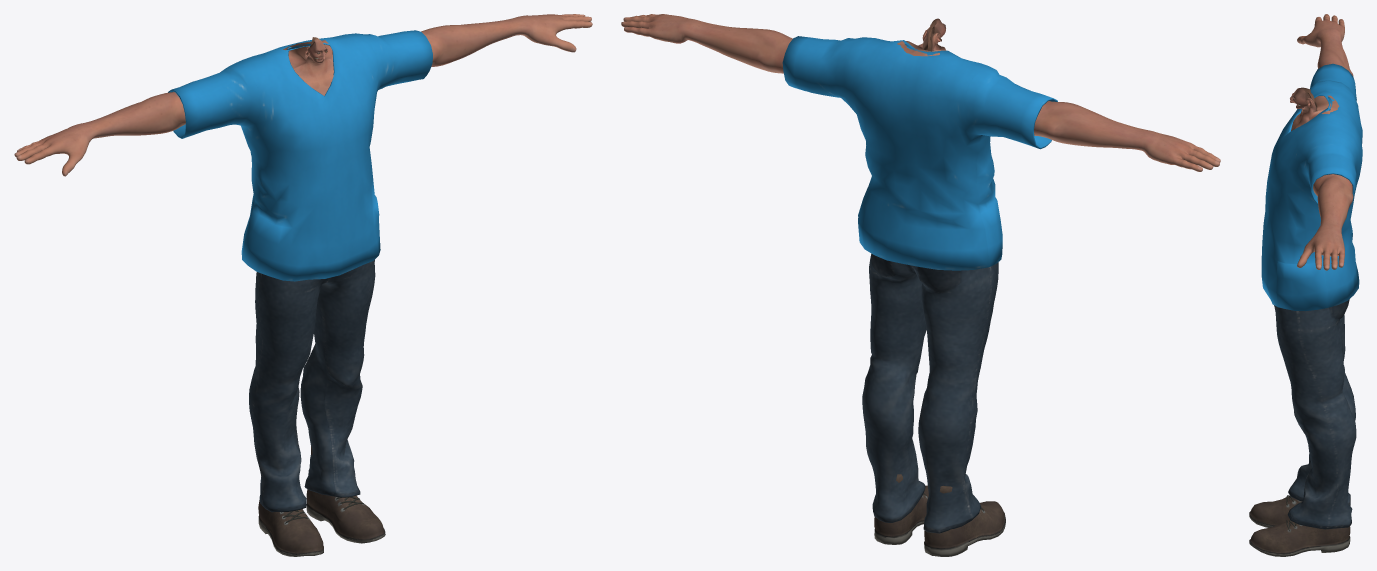
Rendered from Normal Boy OBJ.obj.
3 views of the same model, side by side, from view 1: azimuth 30°, elevation 25°; view 2: azimuth 150°, elevation 25°; view 3: azimuth 270°, elevation 25° (orthographic). The views are drawn at different scales.
Parts seen in each view (by area): view 1: Tops, Bottoms, Body, Shoes; view 2: Tops, Bottoms, Body, Shoes; view 3: Tops, Bottoms, Body, Shoes.
Part boxes in pixels (<box>): Tops: <box>168,30,432,281</box>; Bottoms: <box>249,260,375,512</box>; Body: <box>14,14,592,176</box>; Shoes: <box>258,446,385,556</box>; Tops: <box>782,36,1057,270</box>; Bottoms: <box>862,253,998,533</box>; Body: <box>621,14,1220,171</box>; Shoes: <box>874,474,1005,556</box>; Tops: <box>1261,63,1362,311</box>; Bottoms: <box>1274,299,1356,529</box>; Body: <box>1290,14,1353,270</box>; Shoes: <box>1249,495,1350,556</box>.
Size of the model in its own units: 194 by 159 by 36.71.
Materials: 1 (1 with a texture image).
